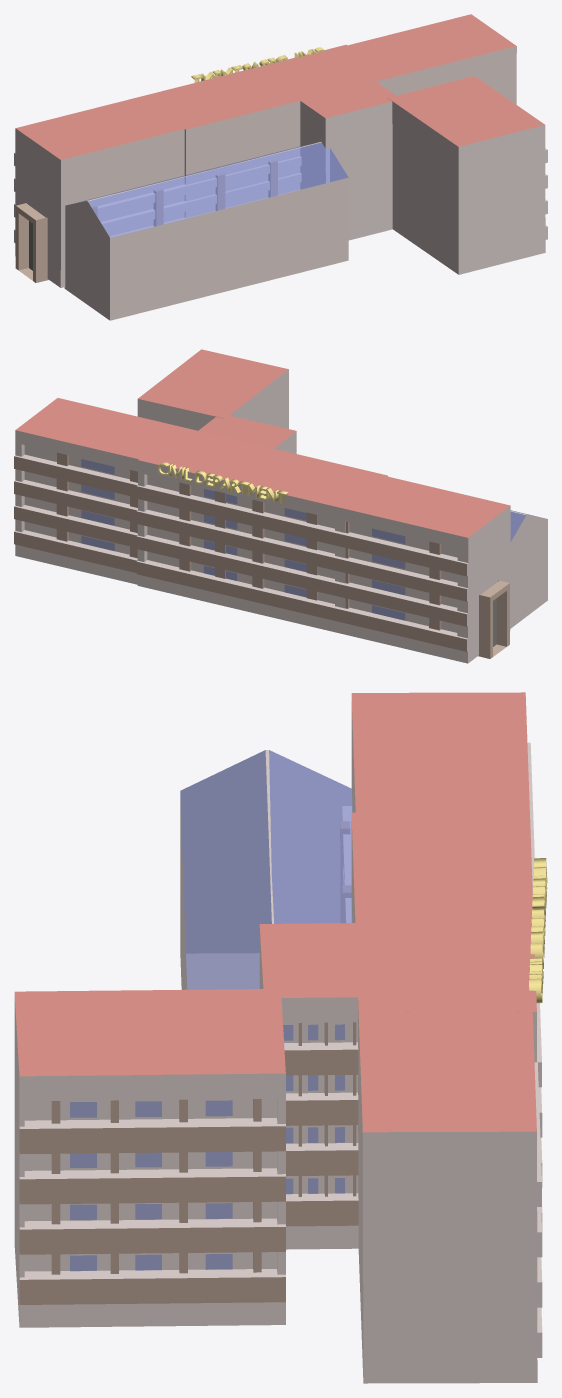
The model's file is civil.glb.
The picture shows the model from 3 angles, top to bottom: view 1: azimuth 30°, elevation 25°; view 2: azimuth 150°, elevation 25°; view 3: azimuth 270°, elevation 25°; orthographic projection. The views are drawn at different scales.
Visible parts, largest first — view 1: Plane.001, Plane.007, Plane.004, Plane.003, Plane.002, Cube, Text; view 2: Plane.007, Plane.003, Plane.004, Plane.001, Cube, Plane.002, Text; view 3: Plane.004, Plane.003, Plane.007, Plane.001, Plane.002, Text.
Boxes of the visible parts, bbox=[...] form: Plane.001: bbox=[64, 142, 348, 320]; Plane.007: bbox=[14, 44, 391, 287]; Plane.004: bbox=[388, 76, 547, 274]; Plane.003: bbox=[184, 14, 516, 217]; Plane.002: bbox=[299, 82, 396, 240]; Cube: bbox=[15, 203, 48, 282]; Text: bbox=[191, 47, 325, 82]; Plane.007: bbox=[136, 427, 510, 663]; Plane.003: bbox=[14, 398, 387, 608]; Plane.004: bbox=[137, 349, 288, 430]; Plane.001: bbox=[510, 510, 547, 628]; Cube: bbox=[478, 580, 509, 658]; Plane.002: bbox=[198, 415, 296, 453]; Text: bbox=[157, 462, 288, 503]; Plane.004: bbox=[14, 988, 285, 1327]; Plane.003: bbox=[351, 812, 542, 1383]; Plane.007: bbox=[351, 692, 542, 1232]; Plane.001: bbox=[180, 750, 352, 989]; Plane.002: bbox=[259, 923, 361, 1249]; Text: bbox=[529, 858, 547, 1003].
Size of the model in its own units: 27.13 by 7.38 by 13.55.
